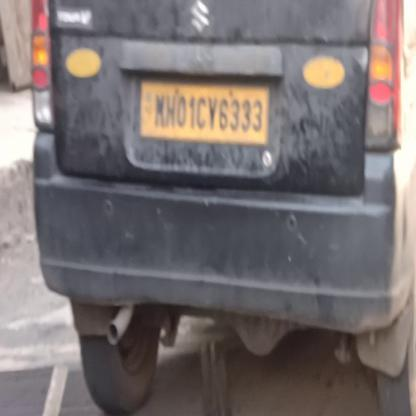license_plate: (139, 78, 268, 146)
